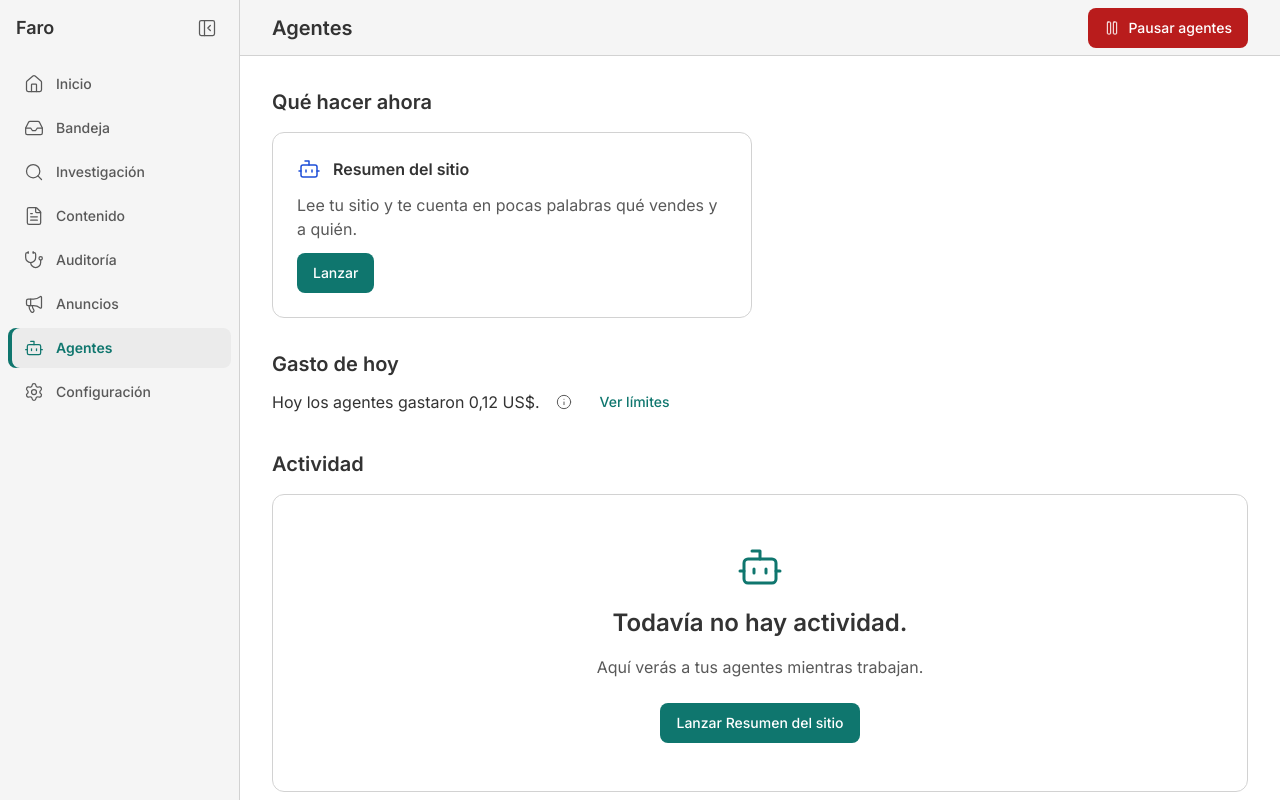
Test: Lanzar Resumen del sitio (spec F1b §3.3) › cargando: esqueleto, 'Calculando el costo…' y el botón deshabilitado
Click the button with aria-label "Lanzar Resumen del sitio" at (336, 273), box [297,253,374,293]
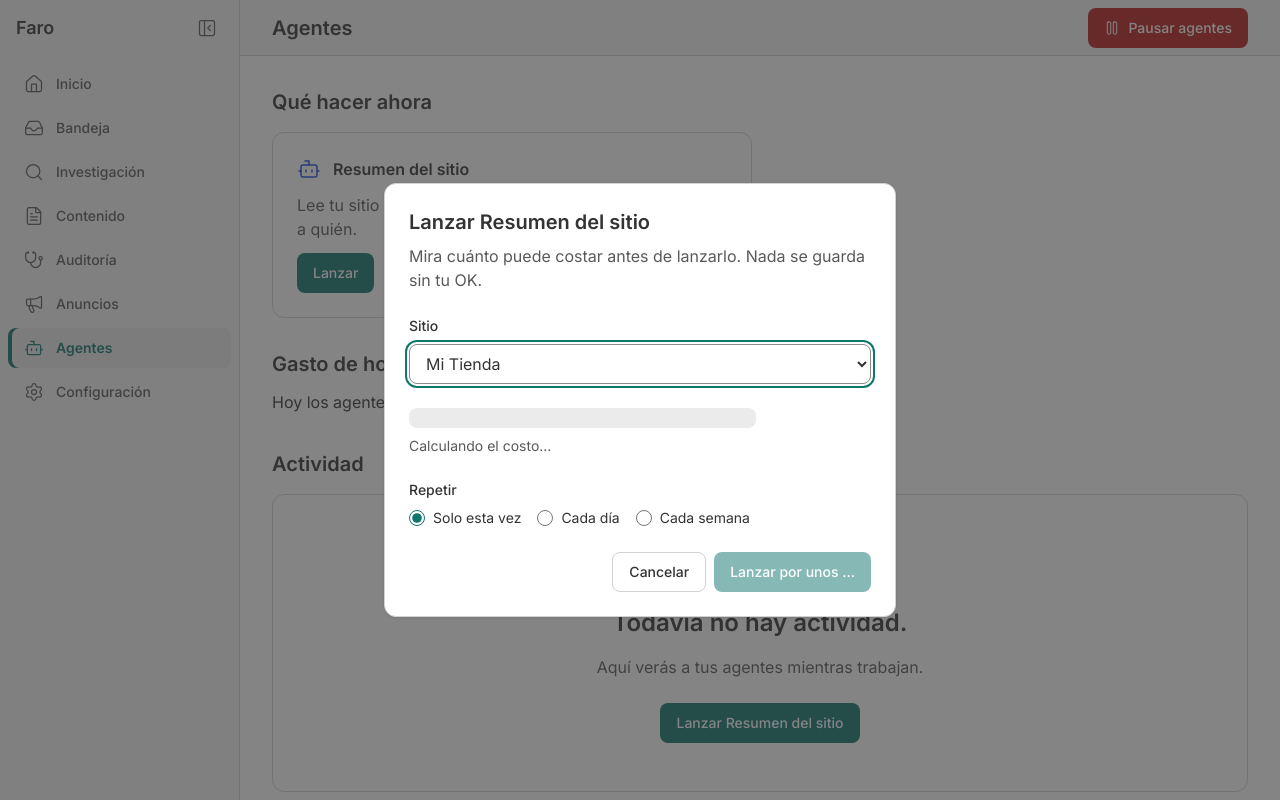
expect the text "Calculando el costo…" is shown: met, box [409,437,551,454]
expect the button "Lanzar por unos …" is disabled: met, box [714,552,871,592]
